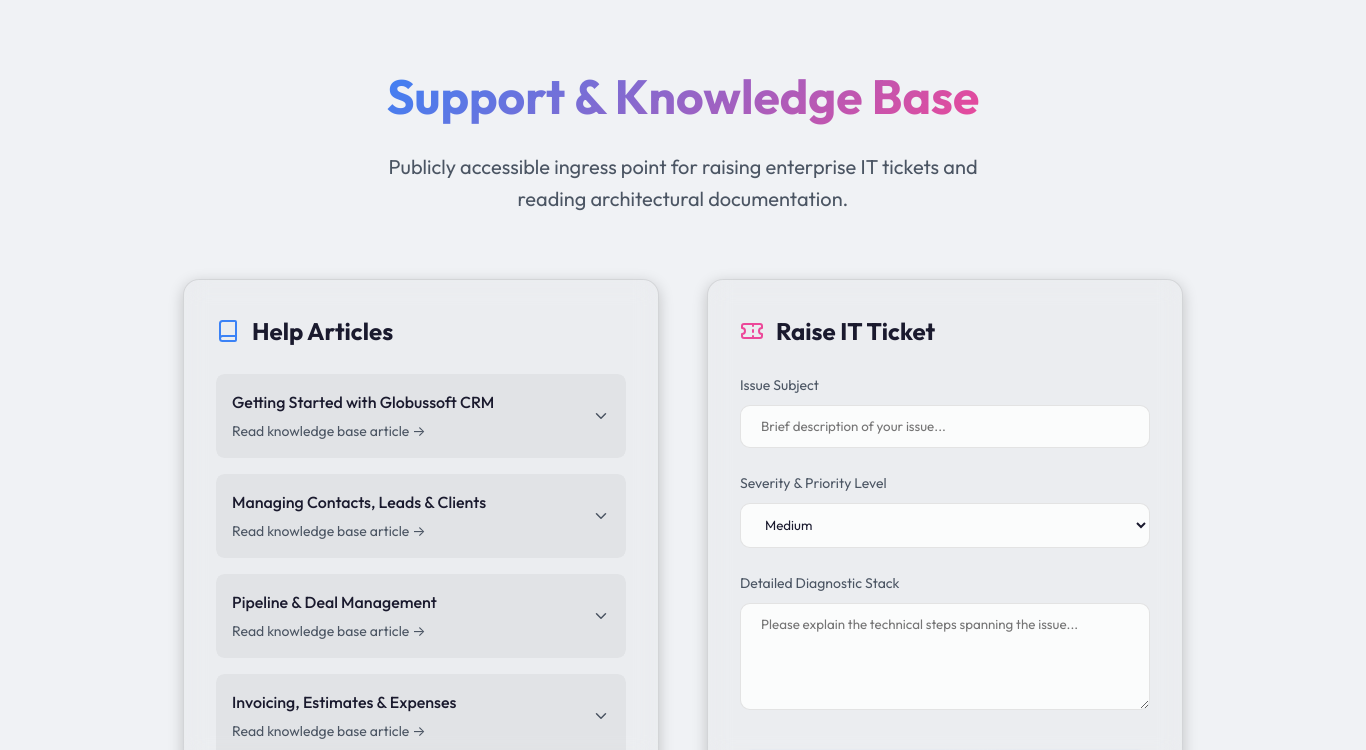
Test case: Portal page › POSTs subject + description + priority to /api/tickets/submit and swaps to the success card
This screenshot has width=1366, height=750.
Type "VPN dropping" into the field with placeholder "Brief description of your issue..." at (945, 426), box [740,405,1150,448]
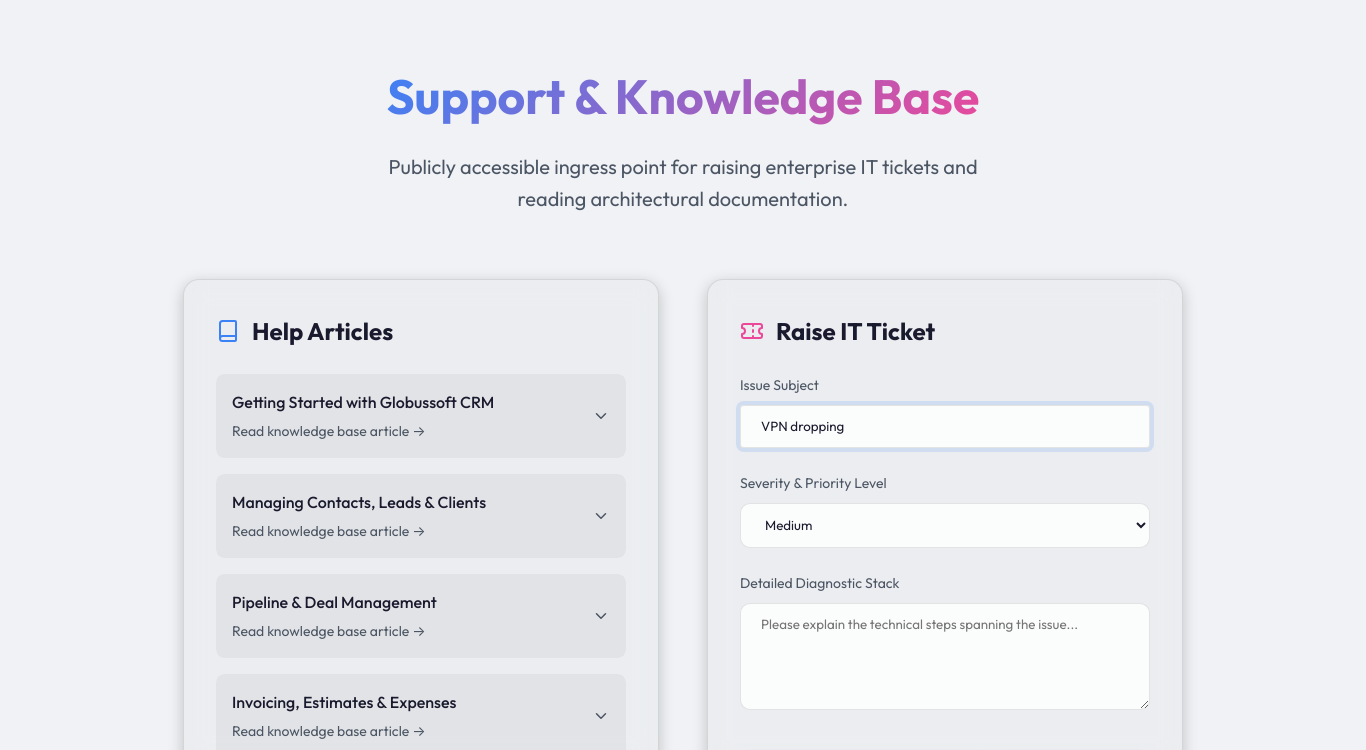
Type "Disconnects every 5 minutes on macOS Sonoma" into the text box with placeholder "Please explain the technical steps spanning the issue..." at (945, 656), box [740,602,1150,710]
(page scrolled)
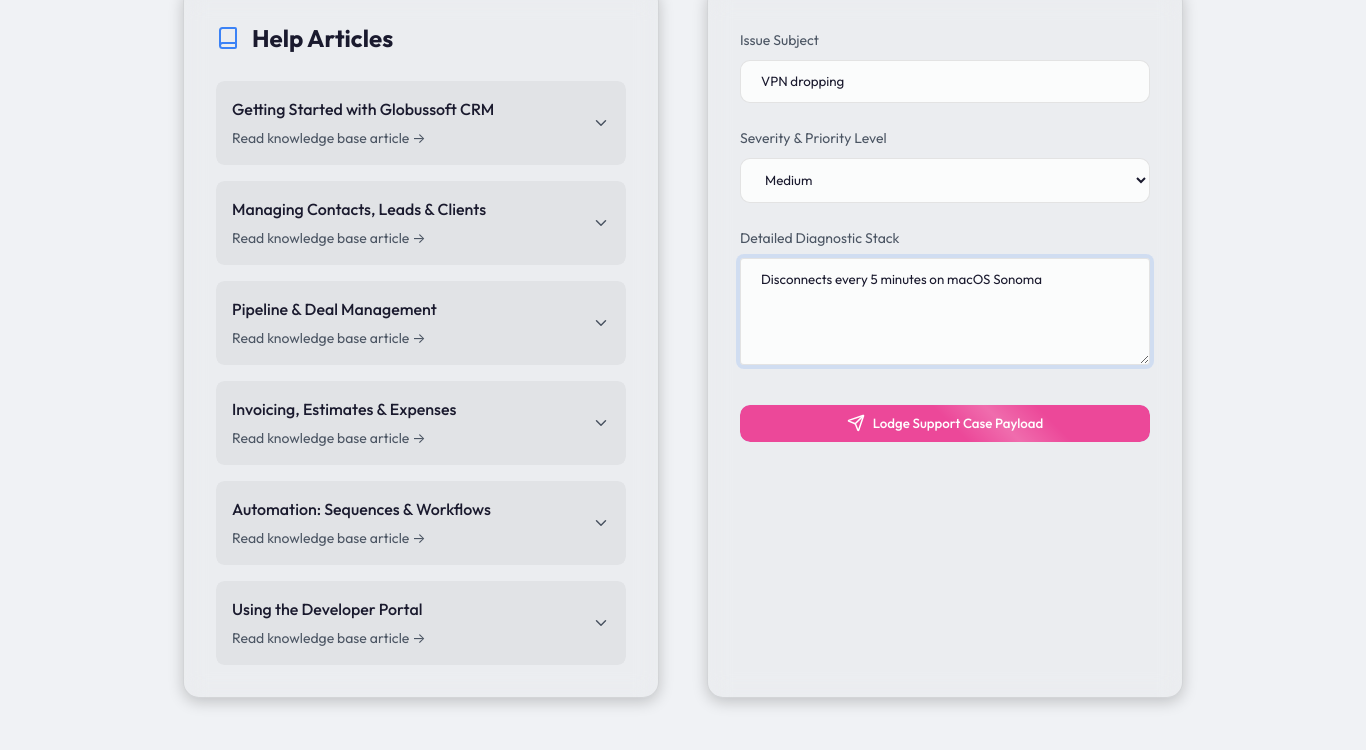
Click the button "Lodge Support Case Payload" at (945, 423), box [740,405,1150,442]
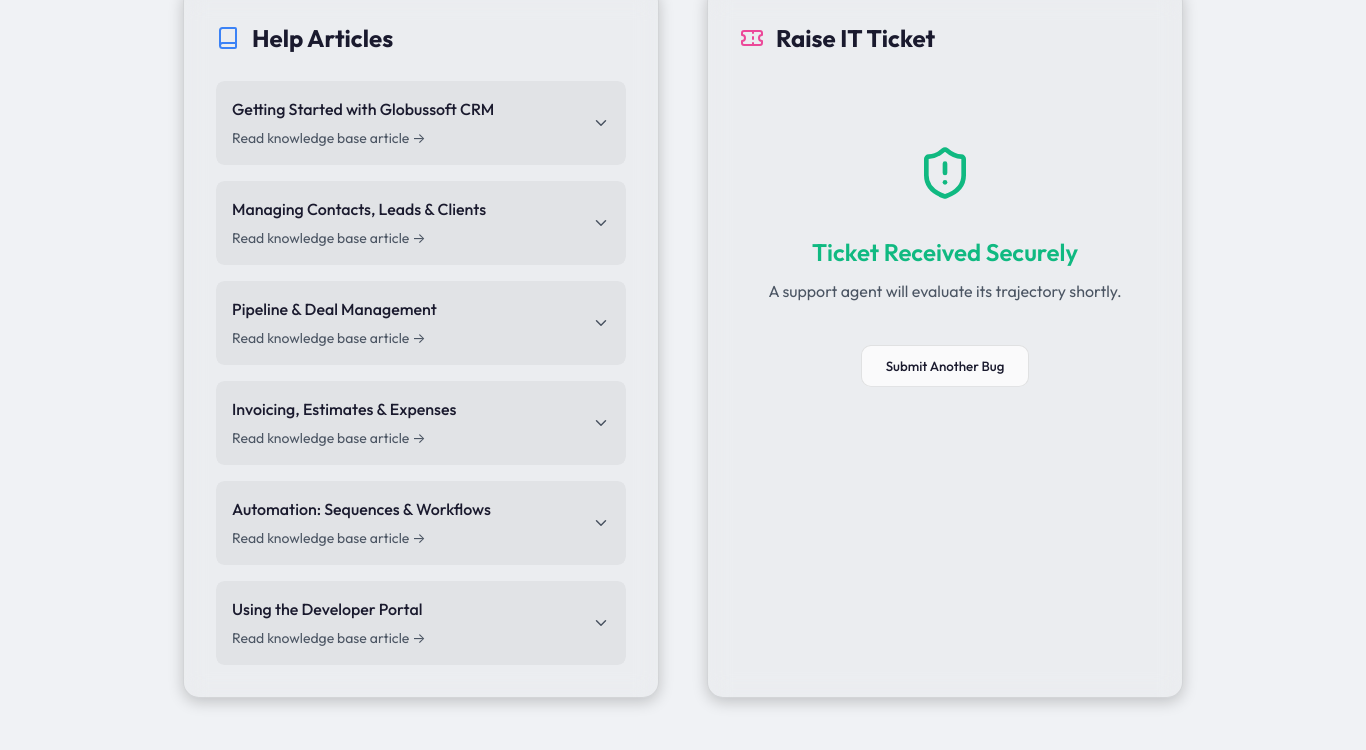
Now the heading "Ticket Received Securely" is shown, box [812,237,1078,267]
Now the button "Submit Another Bug" is shown, box [861,345,1029,387]
